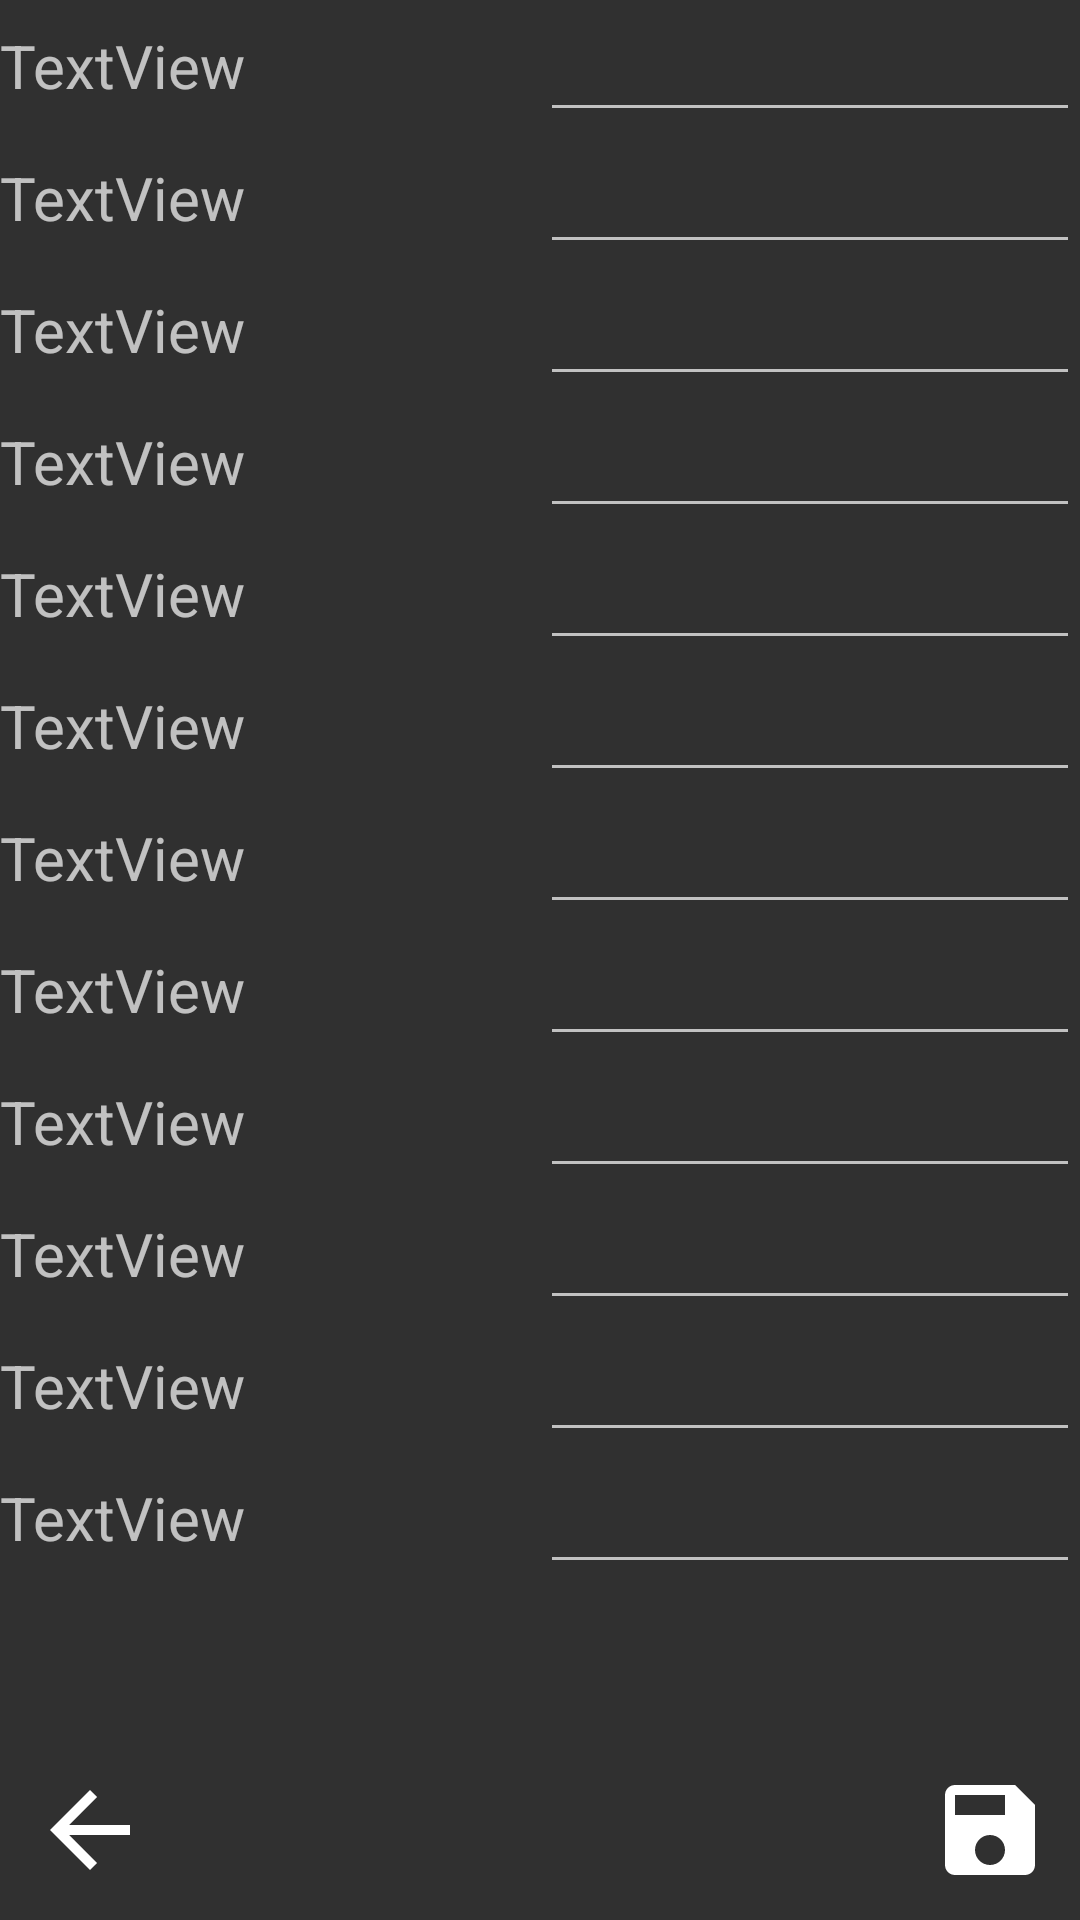

Where to tap for icons on this 1080px x 1920px app screen, as (x,y):
back: (90,1830)
save: (990,1830)
